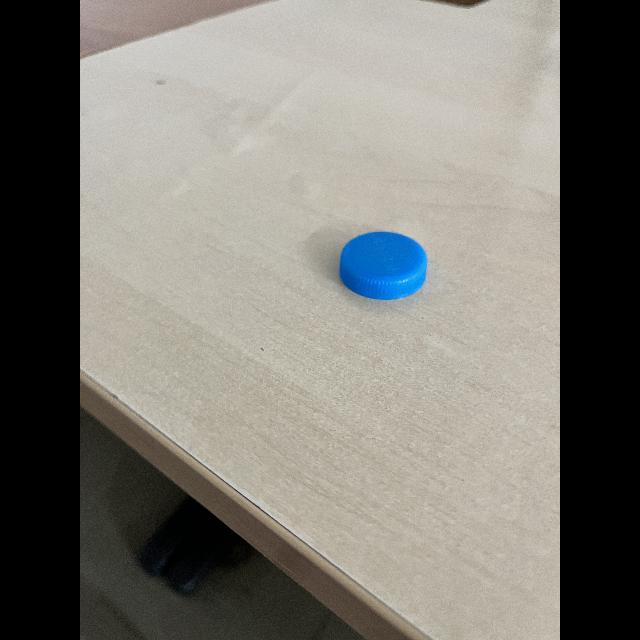plastic_bottle_cap: (327, 221, 438, 305)
